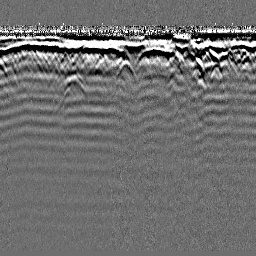cavity: (115, 59, 137, 80)
